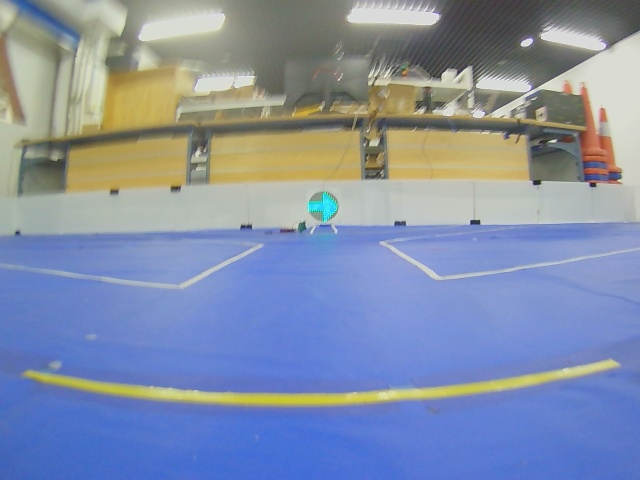right_green: (308, 191, 339, 223)
